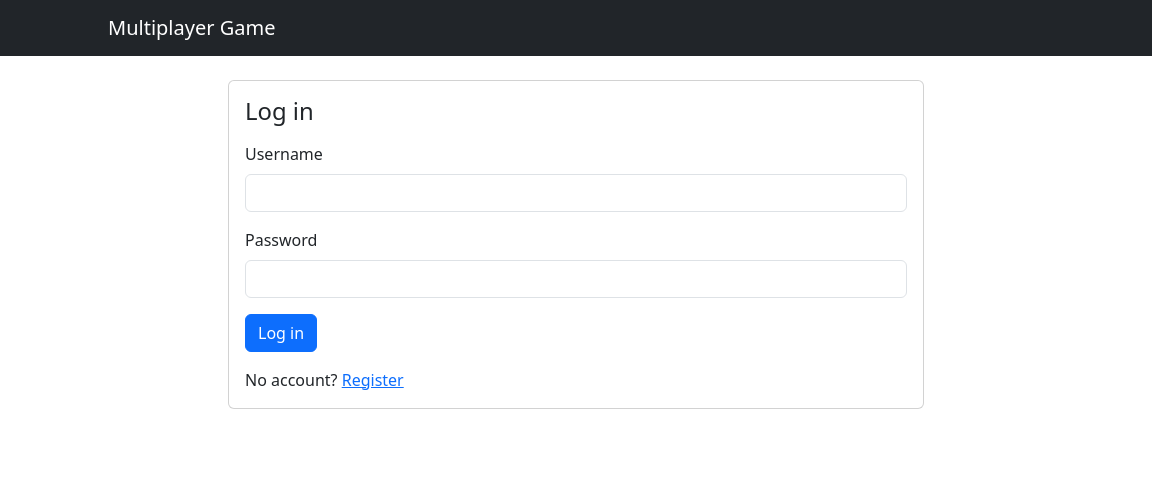
Test case: being rate limited says how long to wait
Type "alice" into the field labelled "Username". click: [576, 193]
box: [245, 174, 907, 212]
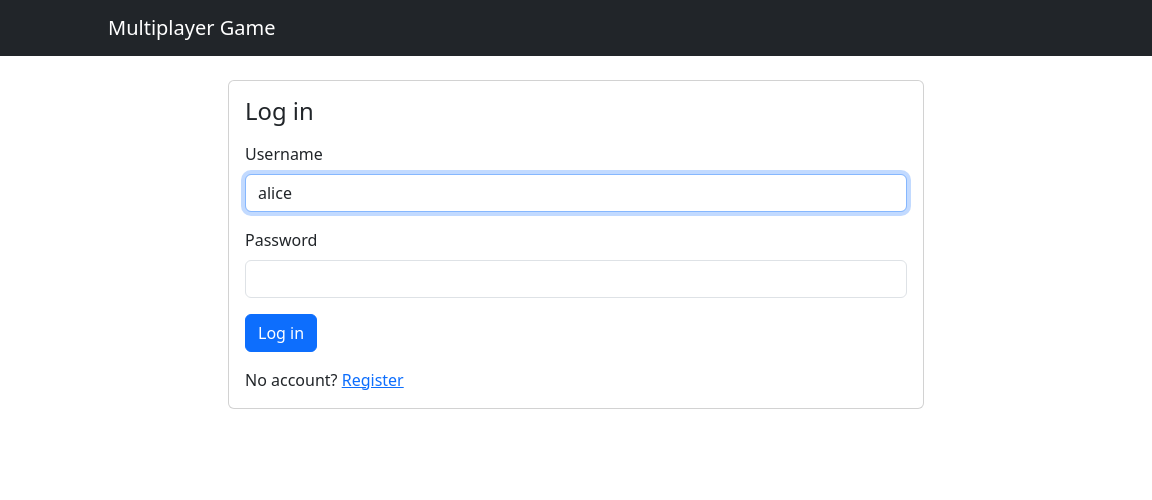
Type "whatever-password" into the password field labelled "Password". click: [576, 279]
box: [245, 260, 907, 298]
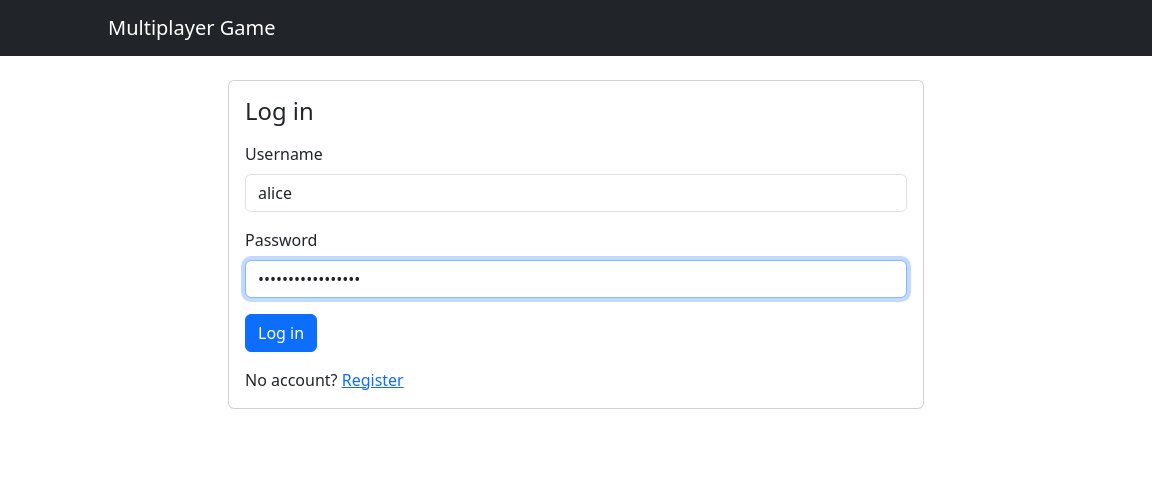
Click the button "Log in". click: [281, 333]
box: [245, 314, 317, 352]
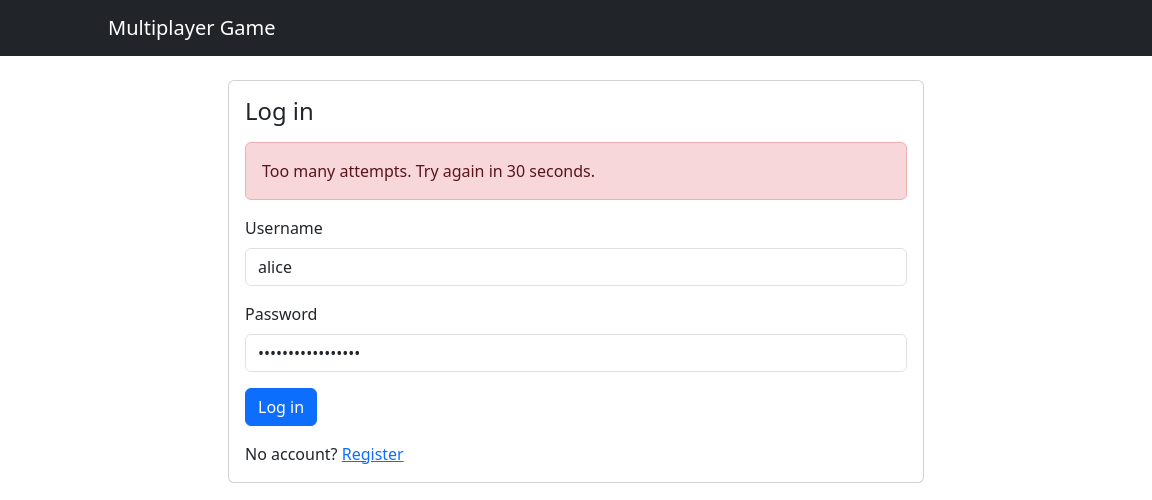
Result: the message shows "Try again in 30 seconds." at [262, 160, 595, 182]
